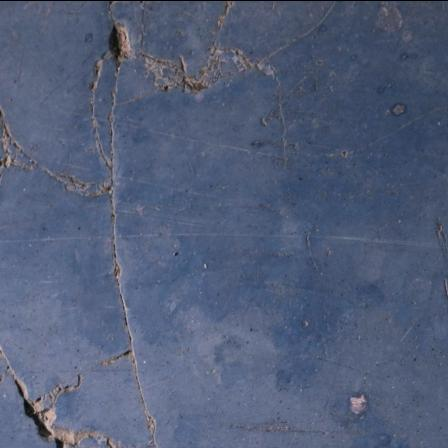crack: (0, 0, 293, 448)
